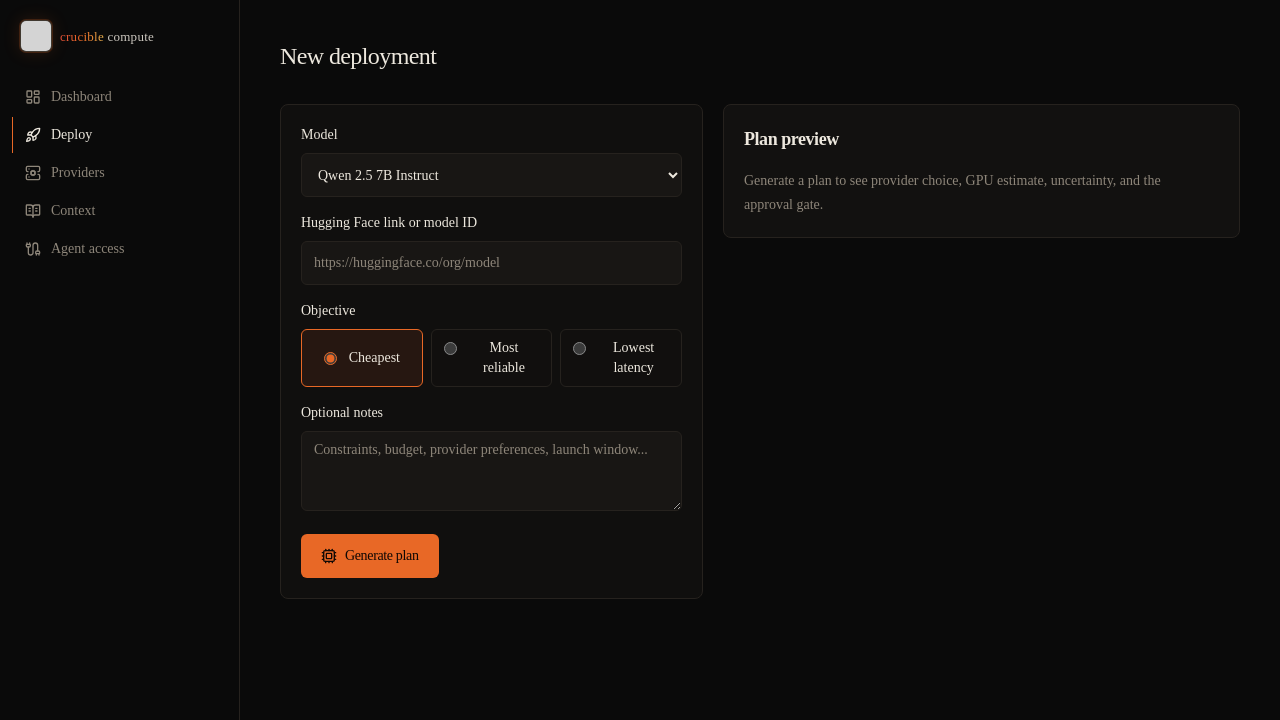
Test: NewDeploymentPage › creates a safe approval-required plan for Qwen 7B
The image size is (1280, 720).
Click the button "Generate plan". click: {"x": 370, "y": 556}
box: [301, 534, 439, 578]
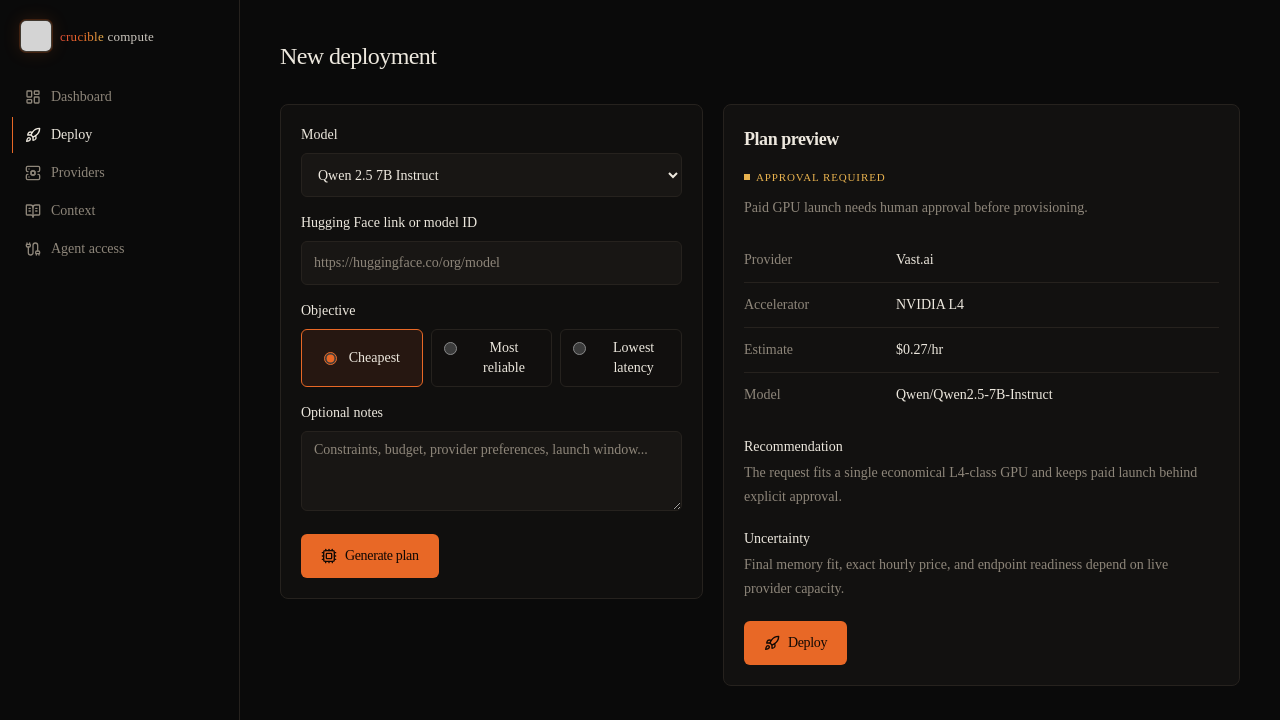
Check: the text "Approval required" is shown, box [744, 169, 886, 186]
Check: the text "Vast.ai" is shown, box [896, 252, 934, 266]
Check: the text "Qwen/Qwen2.5-7B-Instruct" is shown, box [896, 386, 1053, 402]
